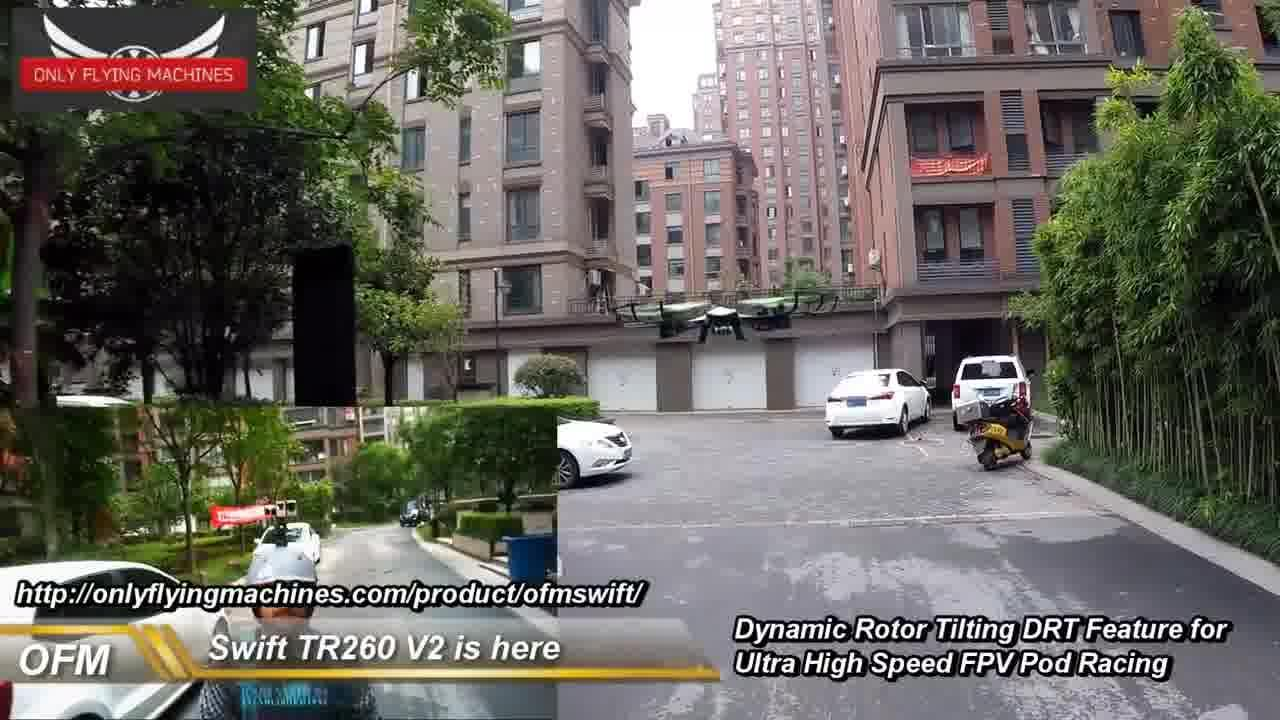drone: (640, 275, 809, 355)
